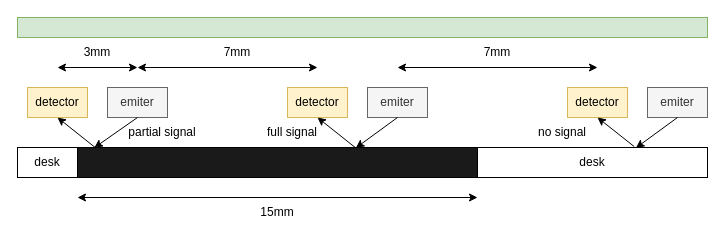
The diagram is 725 pixels wide and 245 high, and some of its shapes have lost their labels. Each missing label, with the centre of its shape:
line: point (277, 162)
pcb: point (362, 27)
